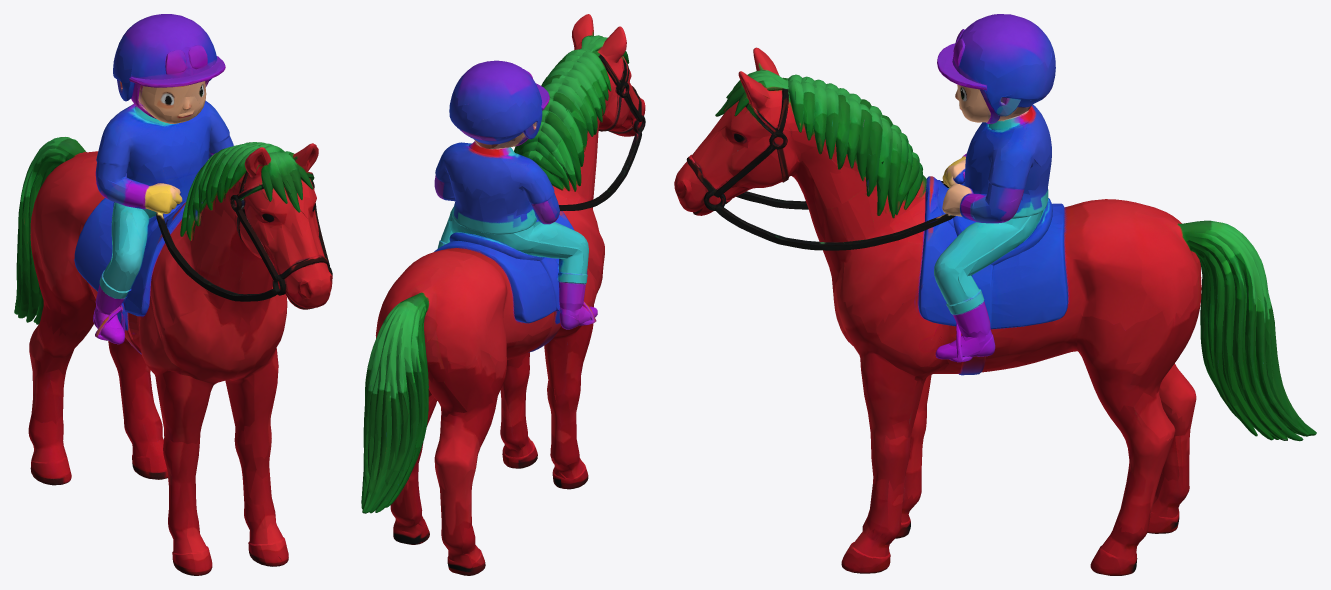
Rendered from meshy-padrao-ondas.glb.
The picture shows the model from 3 angles, left to right: view 1: azimuth 30°, elevation 25°; view 2: azimuth 150°, elevation 25°; view 3: azimuth 270°, elevation 25°; orthographic projection. The views are drawn at different scales.
Bounding box in the file's own units: 0.6504 × 1.72 × 1.9.
1 material, 1 textured.
